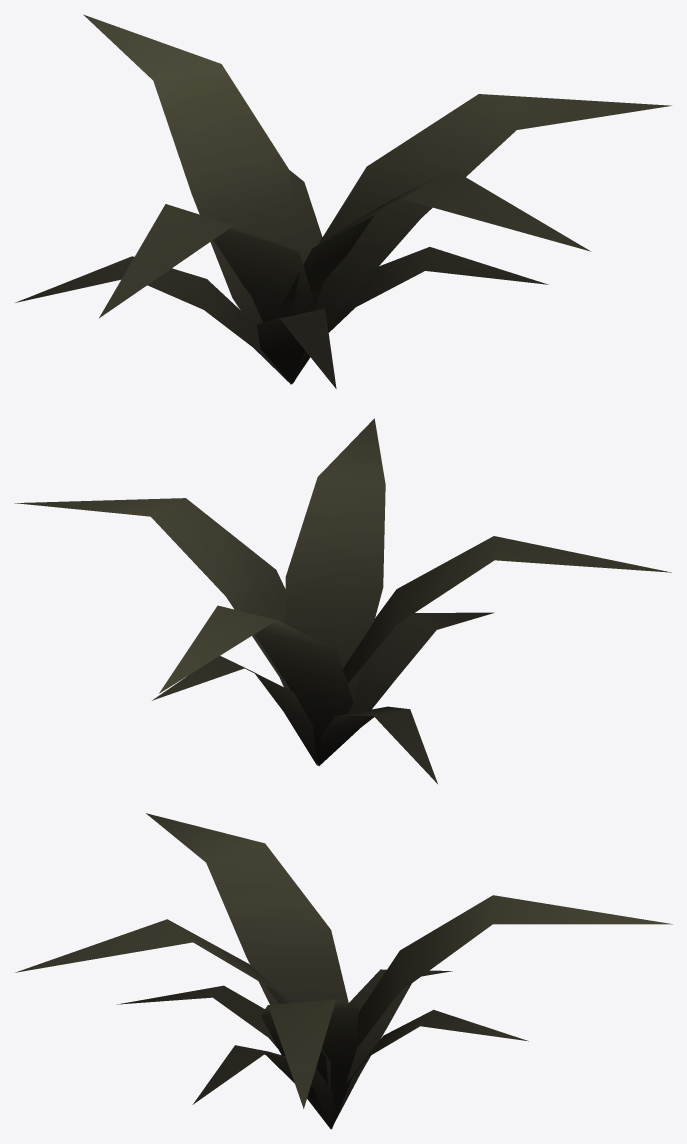
The model's file is environment_plant_c.fbx.
3 renders of one model, top to bottom at view 1: azimuth 30°, elevation 25°; view 2: azimuth 150°, elevation 25°; view 3: azimuth 270°, elevation 25°, orthographic. The views are drawn at different scales.
Parts seen in each view (by area): view 1: Grass_4; view 2: Grass_4; view 3: Grass_4.
Part boxes in pixels (x1,y1,x2,y2): Grass_4: (15, 14, 671, 388); Grass_4: (14, 418, 671, 783); Grass_4: (15, 813, 672, 1129).
Size of the model in its own units: 324 by 118 by 319.
